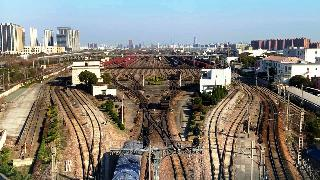train: (112, 139, 142, 180), (160, 95, 172, 109), (175, 71, 181, 80)
